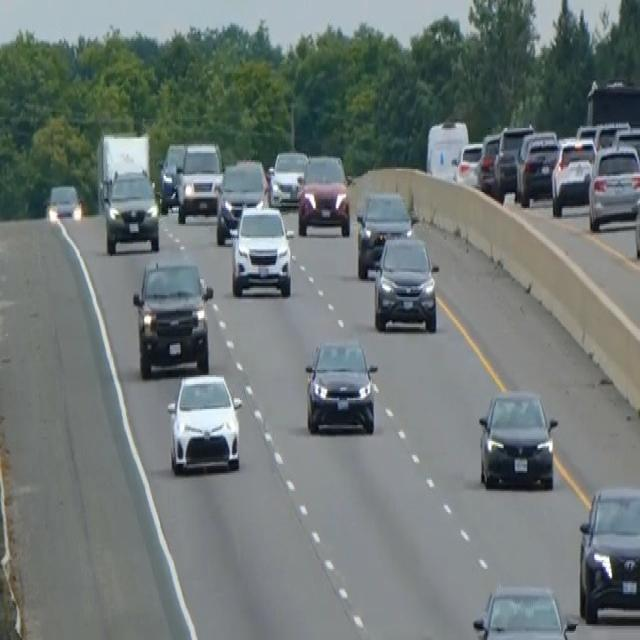car: (577, 484, 639, 624), (477, 386, 558, 490), (166, 370, 243, 474), (303, 336, 378, 436), (372, 233, 439, 332), (228, 203, 292, 297), (471, 582, 577, 638), (355, 188, 413, 278), (587, 141, 639, 231), (215, 156, 268, 244), (297, 153, 351, 236), (175, 139, 224, 222), (550, 133, 596, 215), (515, 130, 559, 206), (493, 123, 533, 197), (268, 148, 308, 206), (158, 140, 185, 212), (477, 130, 501, 194), (44, 182, 81, 222), (454, 138, 483, 186), (633, 176, 639, 261)
jeep: (131, 258, 214, 378)
lorry: (95, 128, 160, 254)
